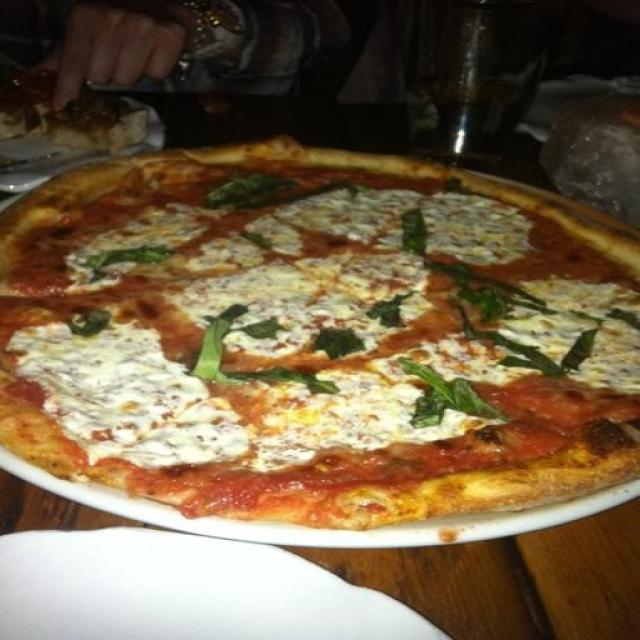Cheese: (41, 344, 208, 446), (284, 391, 442, 441), (538, 294, 640, 370), (198, 282, 327, 334), (308, 191, 401, 233), (435, 201, 509, 251), (203, 242, 262, 266), (338, 272, 392, 297), (137, 222, 205, 240)
Pizza: (0, 136, 640, 535)
